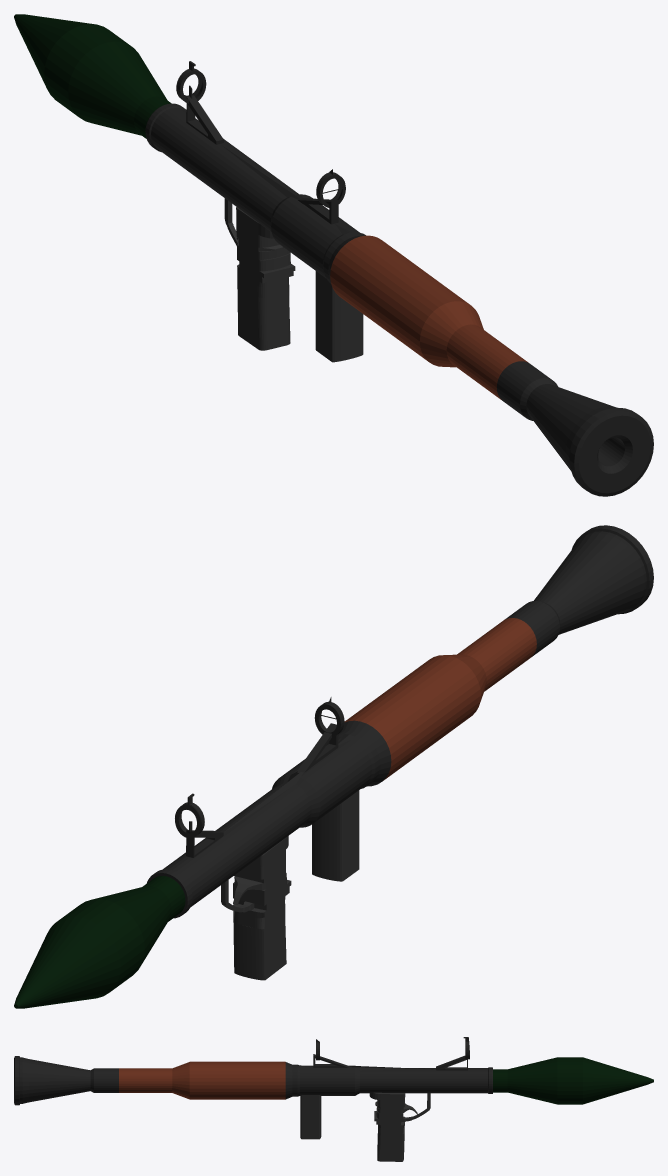
Rendered from heavy.glb.
The picture shows the model from 3 angles, top to bottom: view 1: azimuth 30°, elevation 25°; view 2: azimuth 150°, elevation 25°; view 3: azimuth 270°, elevation 25°; orthographic projection. The views are drawn at different scales.
Parts seen in each view (by area): view 1: Cylinder_2, Cylinder.001_3, Cube_4; view 2: Cylinder_2, Cylinder.001_3, Cube_4; view 3: Cylinder_2, Cylinder.001_3, Cube_4.
Boxes of the visible parts, left/top/right/bottom form: Cylinder_2: left=145, top=61, right=653, bottom=496; Cylinder.001_3: left=14, top=14, right=171, bottom=138; Cube_4: left=224, top=198, right=363, bottom=362; Cylinder_2: left=146, top=525, right=653, bottom=918; Cylinder.001_3: left=14, top=876, right=185, bottom=1008; Cube_4: left=221, top=790, right=359, bottom=980; Cylinder_2: left=14, top=1037, right=492, bottom=1105; Cylinder.001_3: left=493, top=1057, right=653, bottom=1104; Cube_4: left=300, top=1092, right=430, bottom=1161.
Size of the model in its own units: 0.4229 by 1.14 by 5.49.
